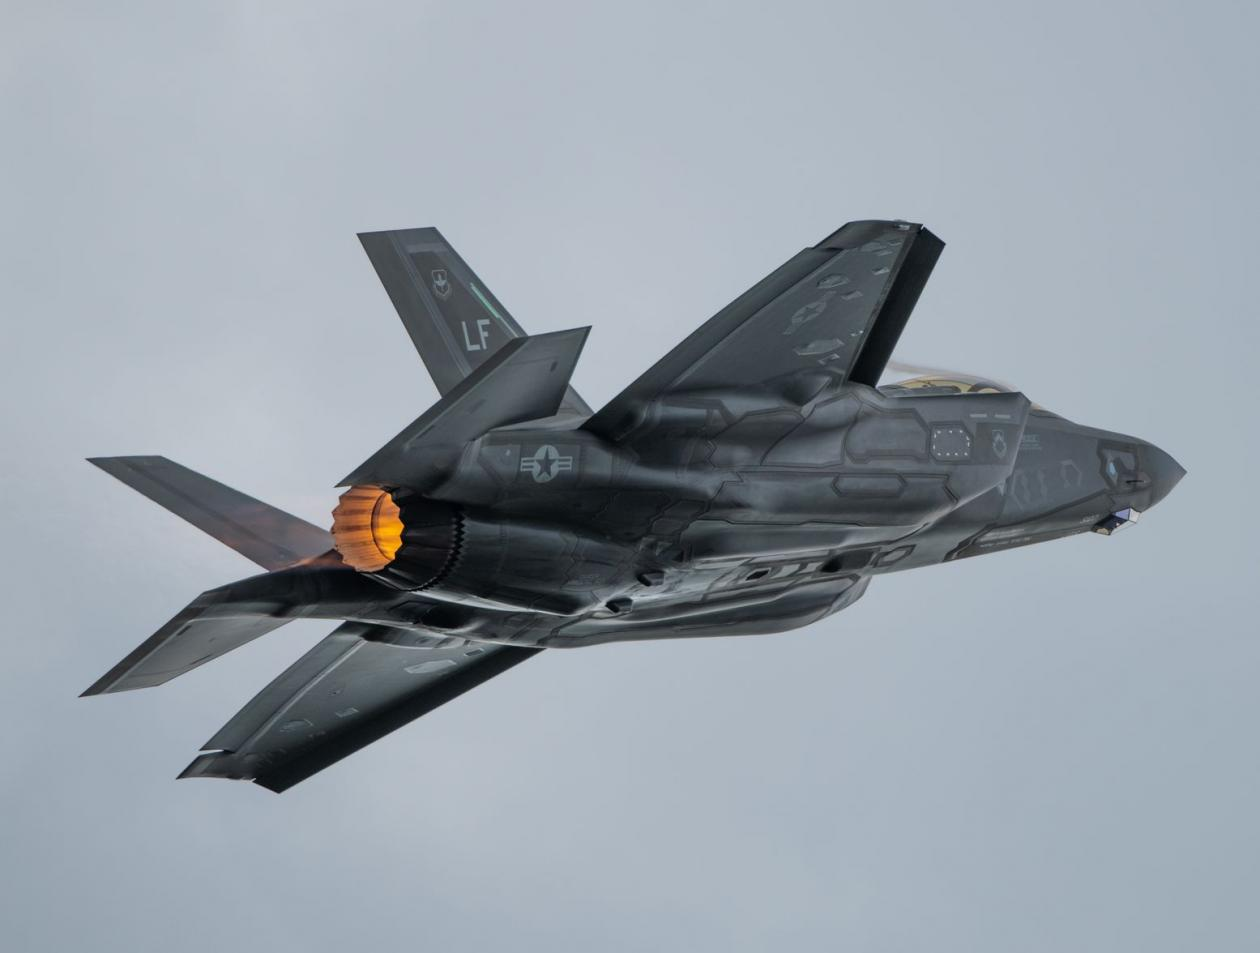F-35 Lightning: (60, 138, 1222, 845)
